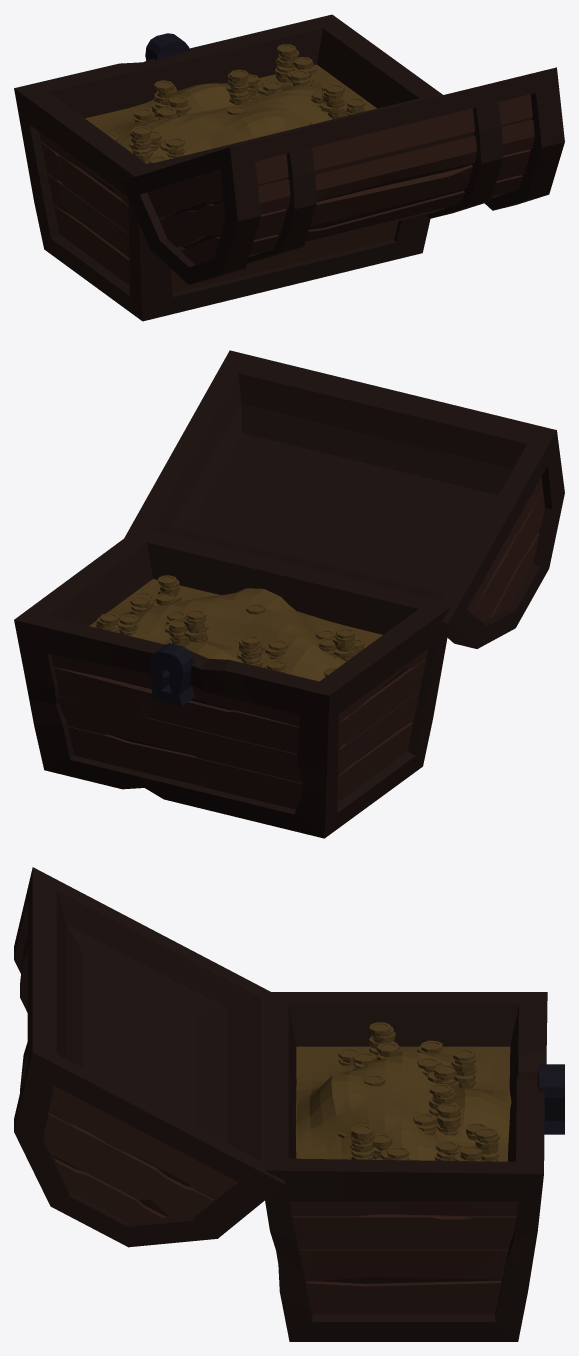
Rendered from Chest_Gold.obj.
The picture shows the model from 3 angles, top to bottom: view 1: azimuth 30°, elevation 25°; view 2: azimuth 150°, elevation 25°; view 3: azimuth 270°, elevation 25°; orthographic projection. The views are drawn at different scales.
Parts seen in each view (by area): view 1: Chest_Gold; view 2: Chest_Gold; view 3: Chest_Gold.
Part boxes in pixels (<box>): Chest_Gold: <box>14,14,564,321</box>; Chest_Gold: <box>14,350,564,838</box>; Chest_Gold: <box>14,867,564,1341</box>.
Bounding box in the file's own units: 1.18 × 0.8994 × 1.48.
